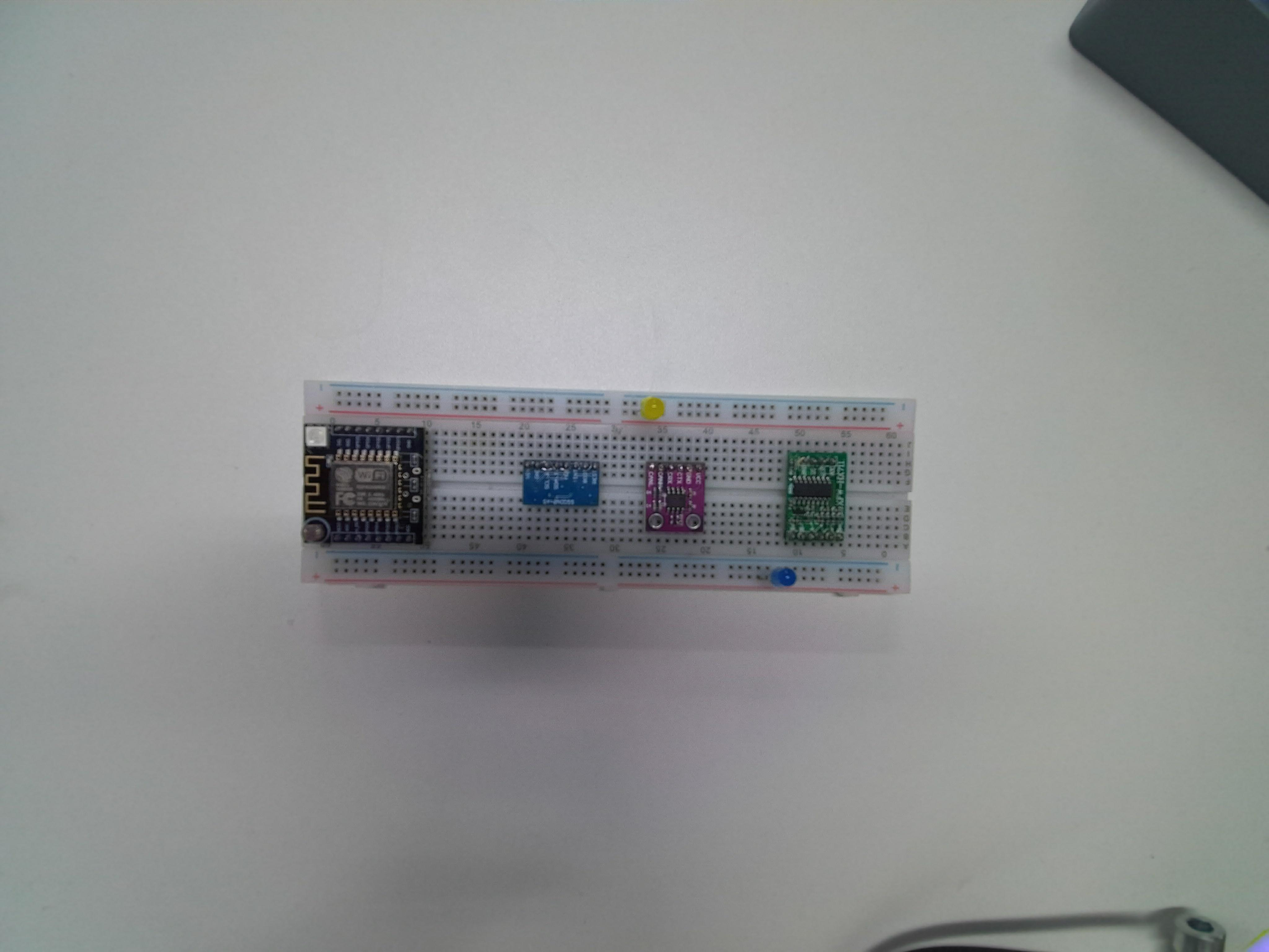base: (301, 385, 914, 595)
blue-board: (521, 462, 603, 511)
blue-led: (767, 566, 802, 592)
esp: (301, 423, 428, 548)
green-board: (781, 449, 851, 546)
purple-board: (643, 459, 707, 534)
yellow-led: (640, 397, 663, 420)
